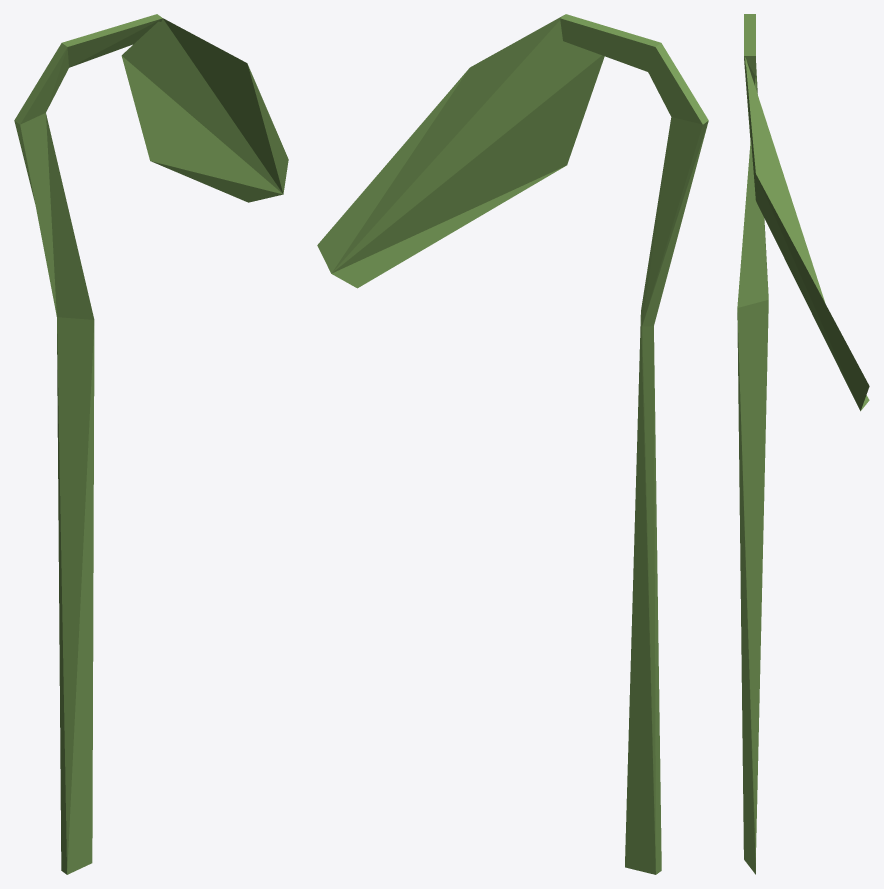
File: Tomatos_1.fbx
3 views of the same model, side by side, from view 1: azimuth 30°, elevation 25°; view 2: azimuth 150°, elevation 25°; view 3: azimuth 270°, elevation 25° (orthographic). The views are drawn at different scales.
Visible parts, largest first — view 1: Tomato_1; view 2: Tomato_1; view 3: Tomato_1.
Part boxes in pixels (box(x1,y1,x2,y2)): Tomato_1: box(14, 14, 288, 874); Tomato_1: box(317, 14, 708, 874); Tomato_1: box(737, 14, 869, 874).
Size of the model in its own units: 11.81 by 28.48 by 4.01.
